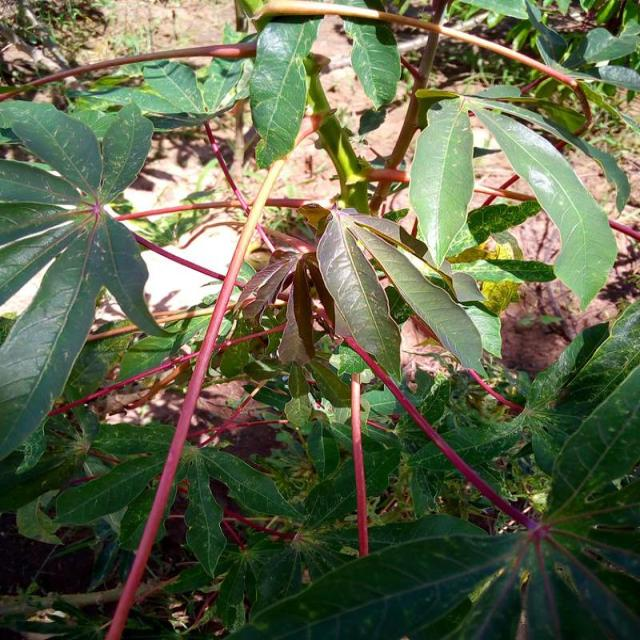cassava leaf: (0, 96, 168, 463), (468, 96, 618, 311), (345, 215, 487, 380), (316, 205, 402, 386), (408, 96, 474, 268), (248, 16, 321, 169), (341, 0, 402, 111)
